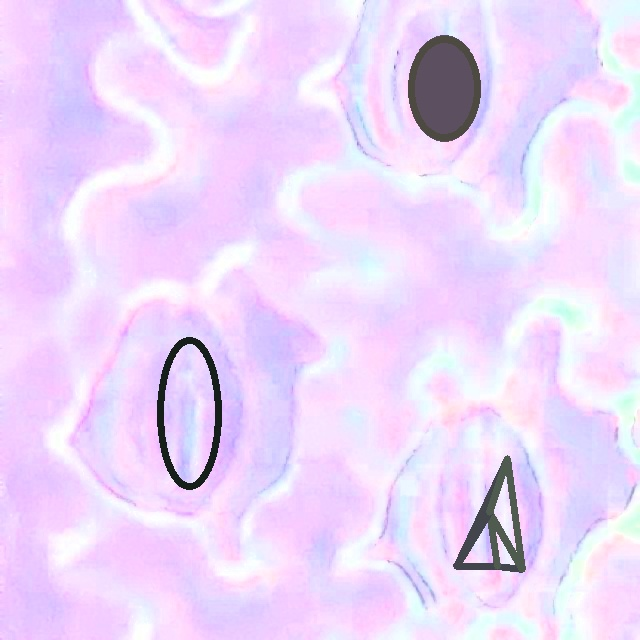open: (157, 336, 221, 490), (453, 455, 525, 569), (408, 34, 480, 141)
